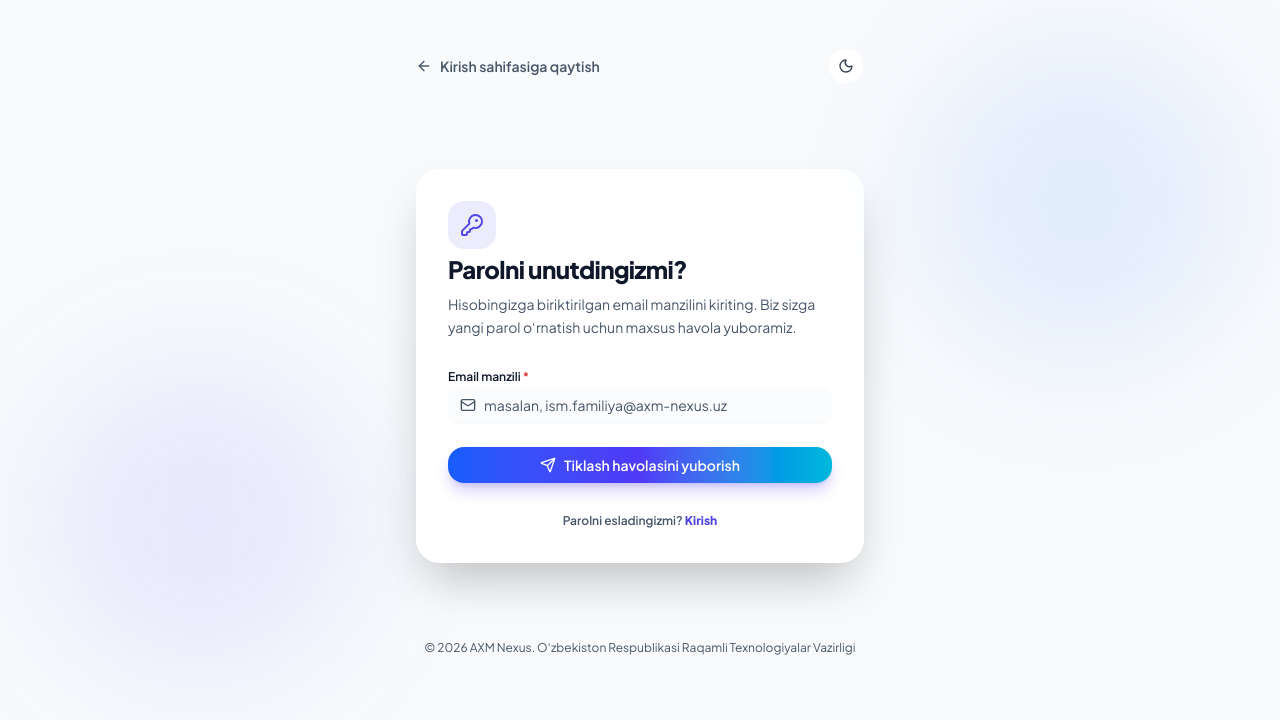
Test: Authentication Pages (Standalone Pages) › ForgotPasswordPage › renders email input and sends reset password link
Expected: the heading "Parolni unutdingizmi?" is shown, [448, 254, 687, 284]
Type "student@axm-nexus.uz" into the field labelled "Email manzili *".
click(640, 405); type("student@axm-nexus.uz")  # box [448, 387, 832, 423]
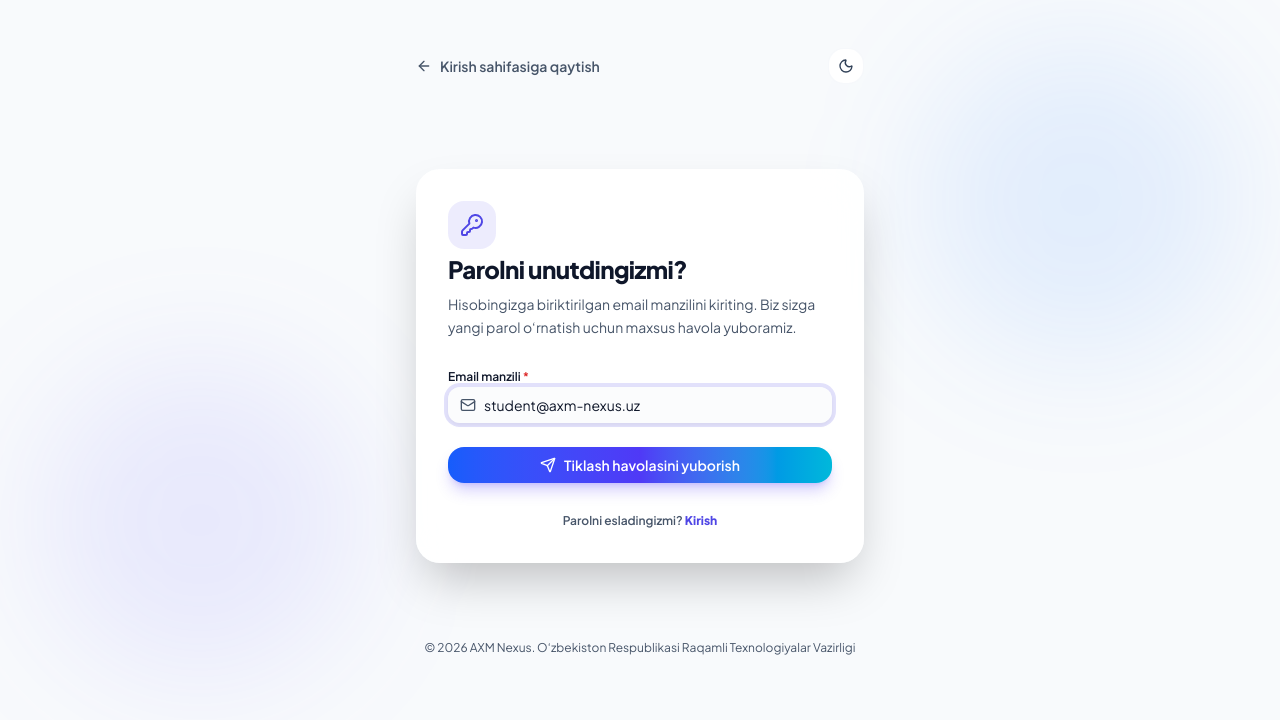
Click the button "Tiklash havolasini yuborish".
click(640, 465)  # box [448, 447, 832, 483]
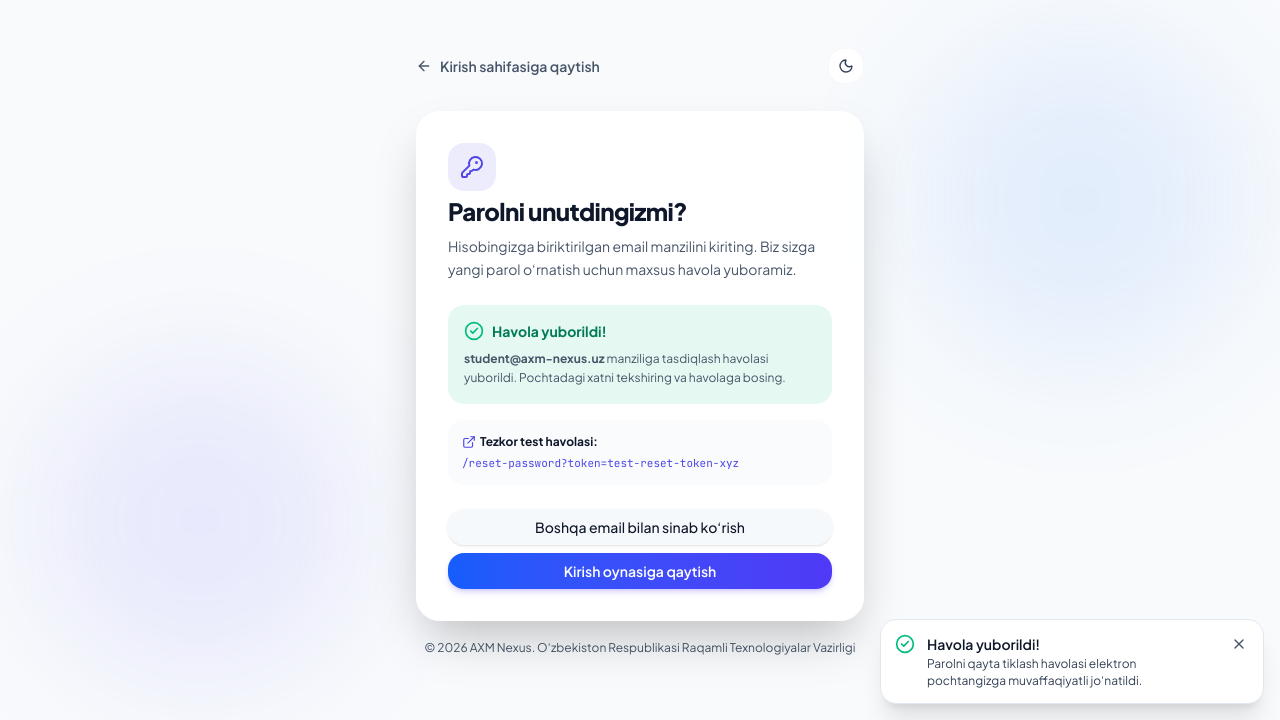
Expected: the text "Havola yuborildi!" is shown, [492, 321, 607, 341]
